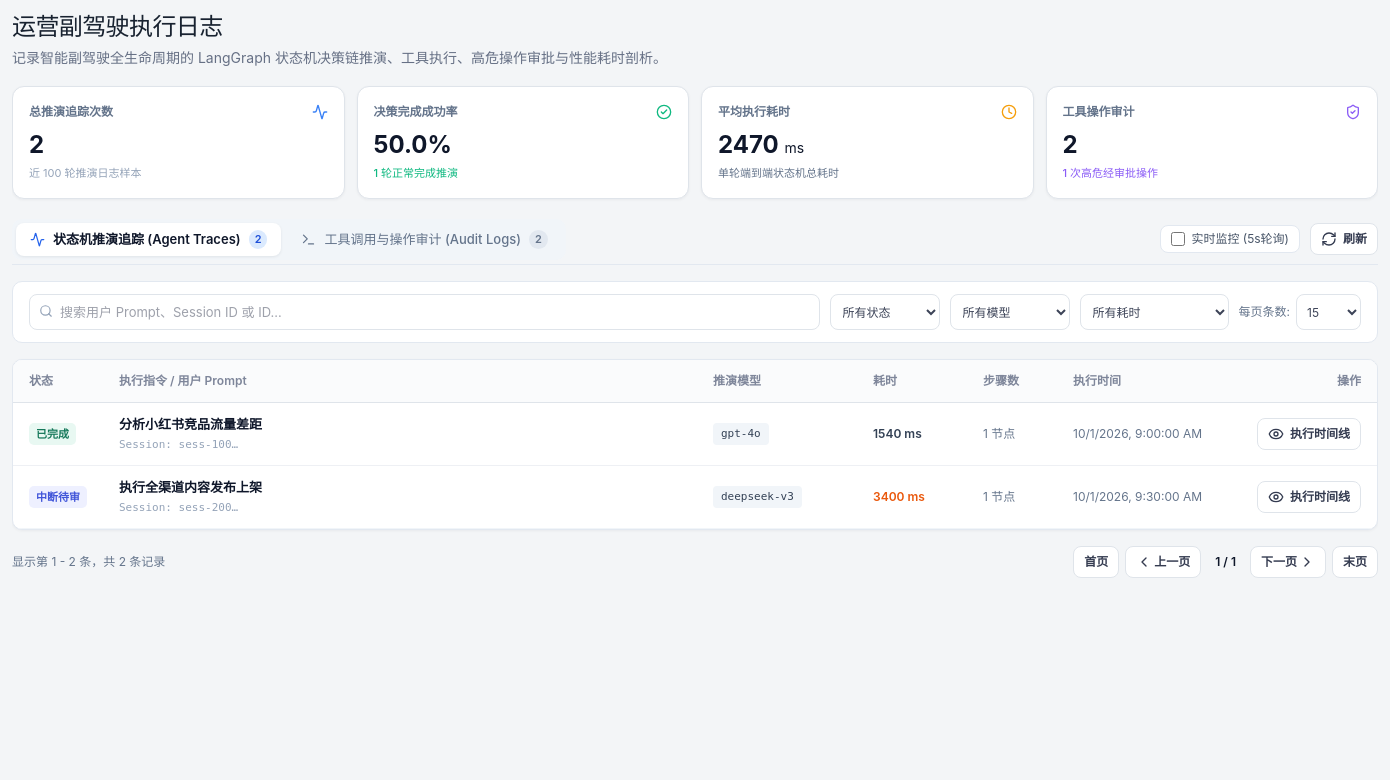
CopilotLogsView Component › filters traces by status
Expected: the text "分析小红书竞品流量差距" is shown, 119,416 -> 262,432
Expected: the text "执行全渠道内容发布上架" is shown, 119,479 -> 262,495
Select "中断待确认" in the 1st dropdown showing "所有状态": (884, 312) 830,294 -> 940,330
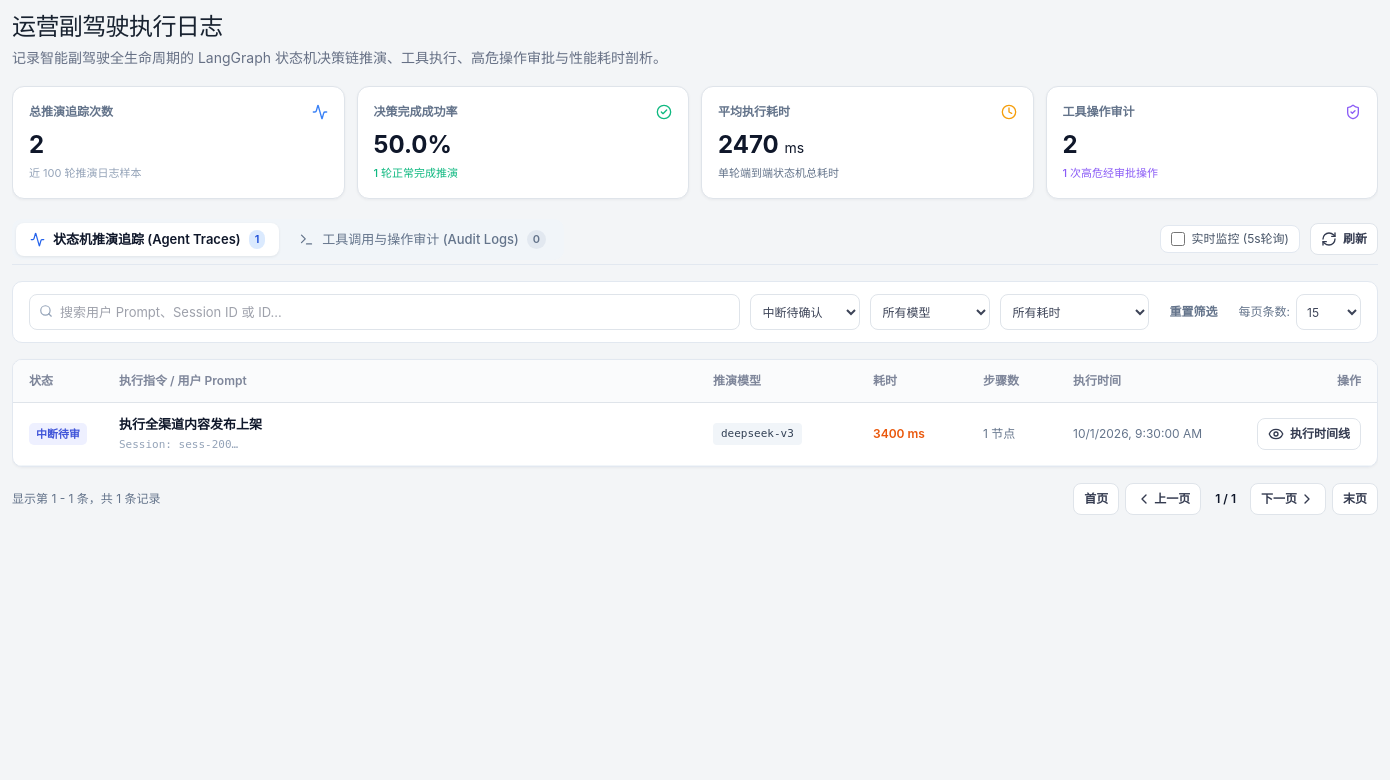
Expected: the text "执行全渠道内容发布上架" is shown, 119,416 -> 262,432
Result: the text "分析小红书竞品流量差距" is gone
